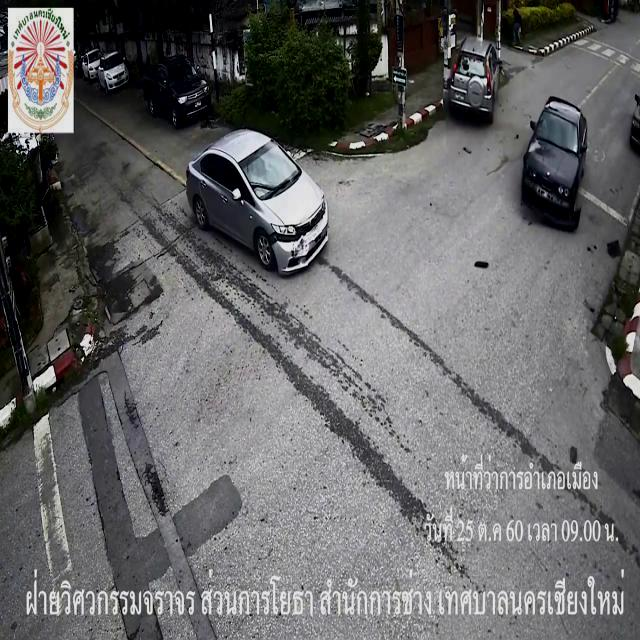accident: (180, 95, 590, 279)
non-accident: (80, 46, 130, 94)
